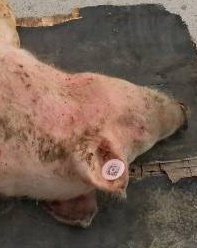text: (93, 142, 136, 196)
